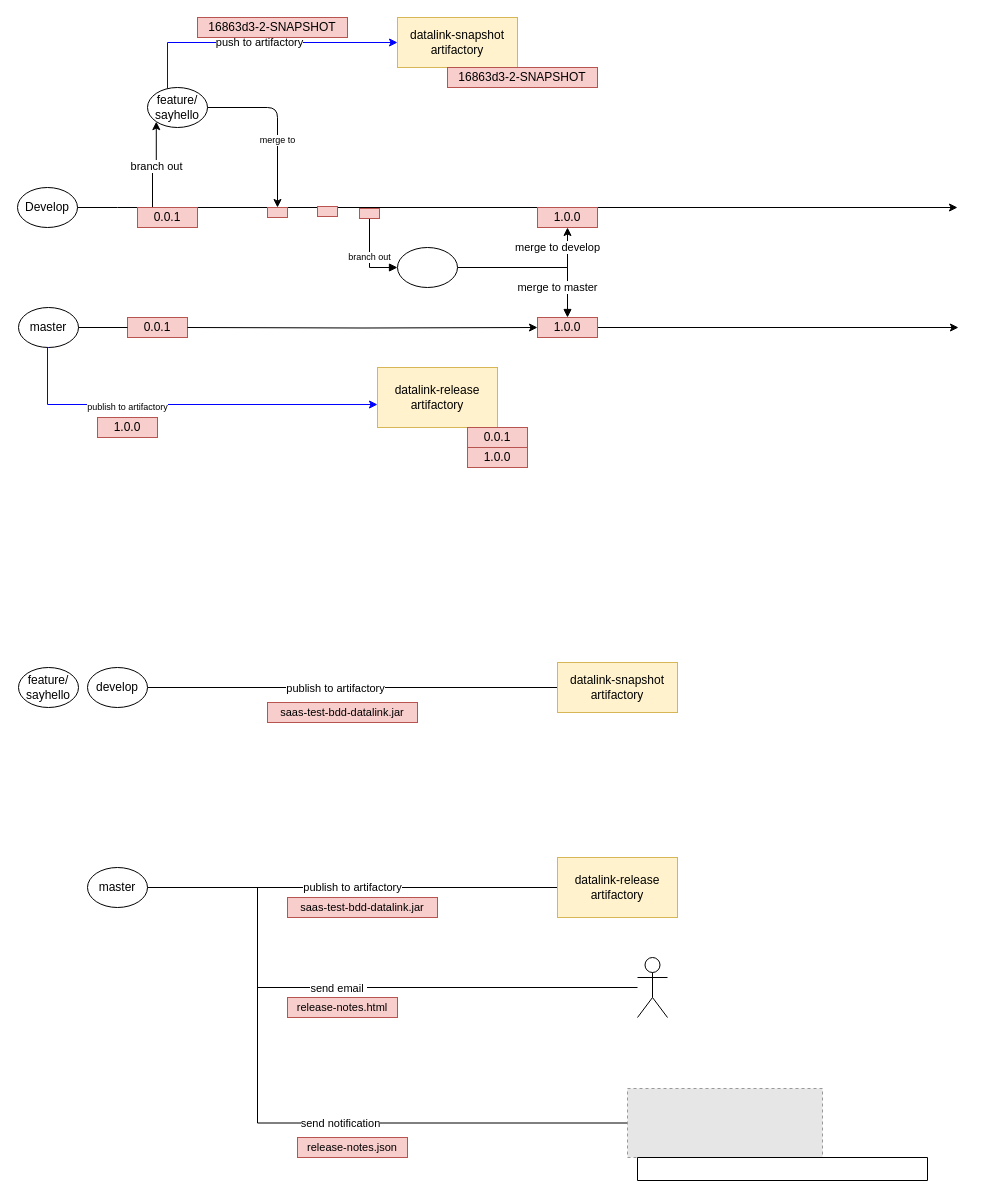
Image size: 984x1198. Some labels were removed from this diagram. Grey dashed boxes stand in for pictures. Each missing label, with the centre of its shape:
#datalink-development channel: point 782,1168
release /1.0.0: point 427,267
subscribers: point 652,987
